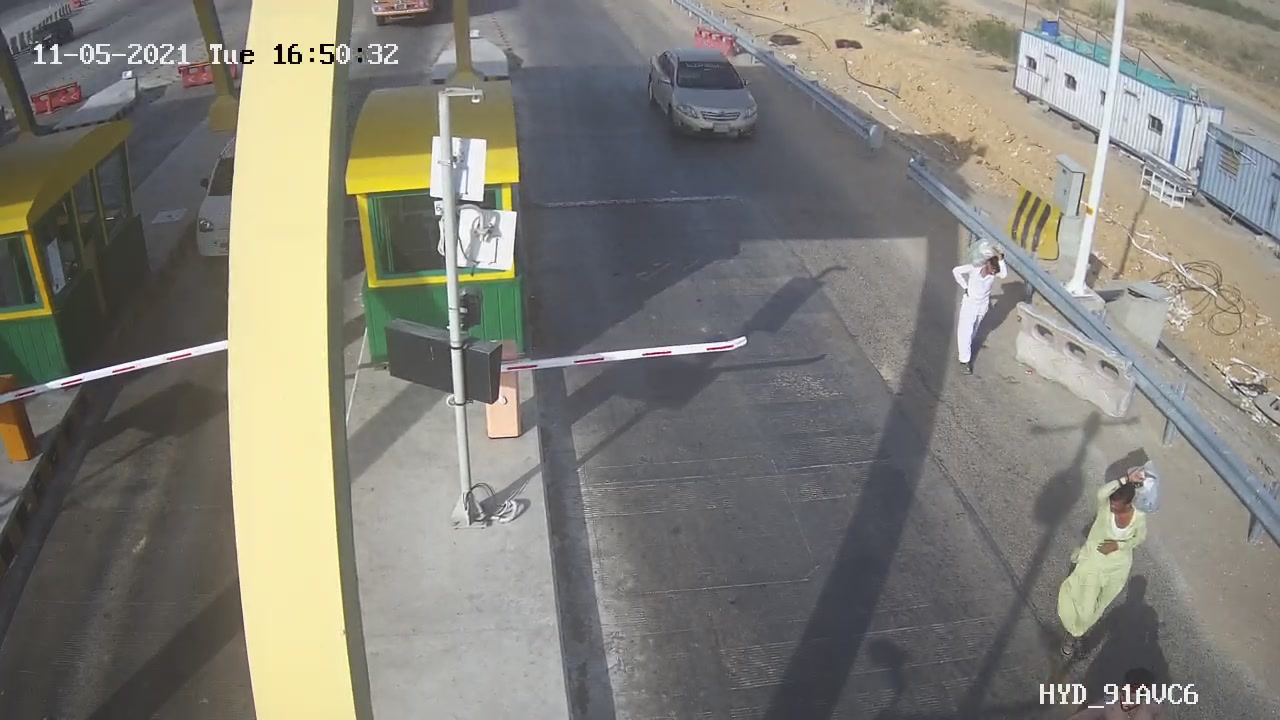F1: (625, 34, 782, 159)
